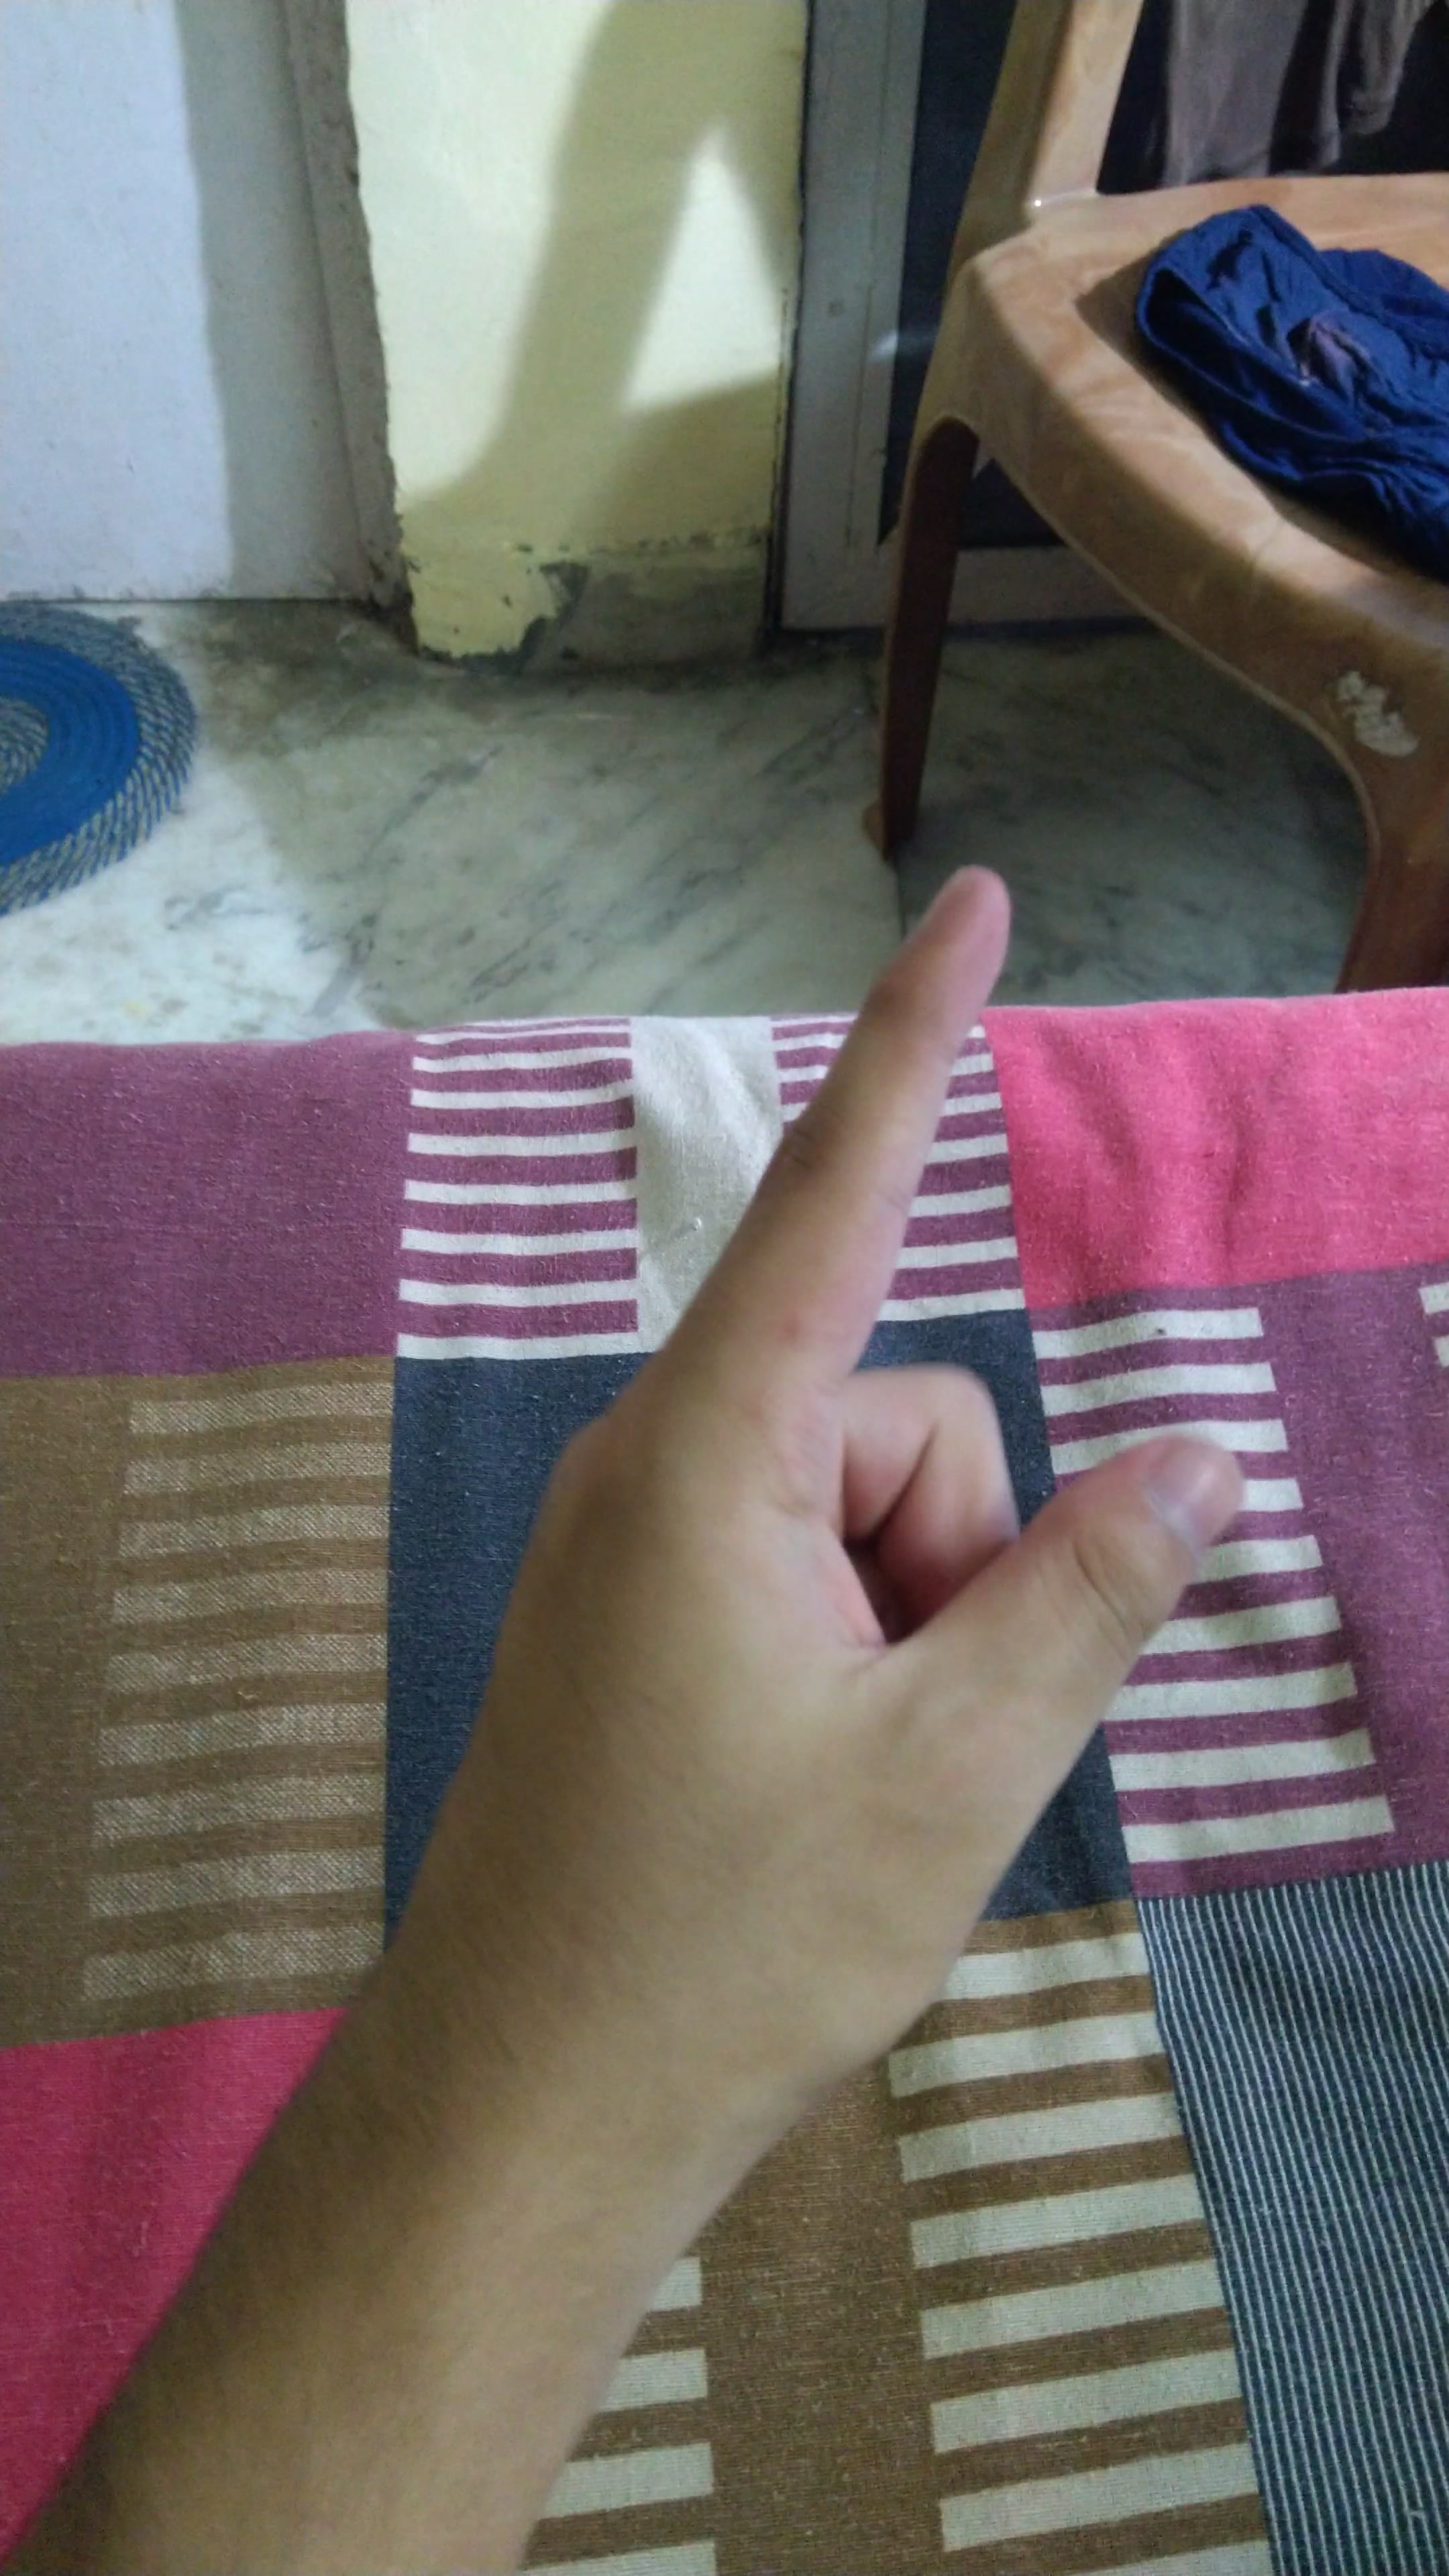hand: (336, 863, 1270, 2181)
